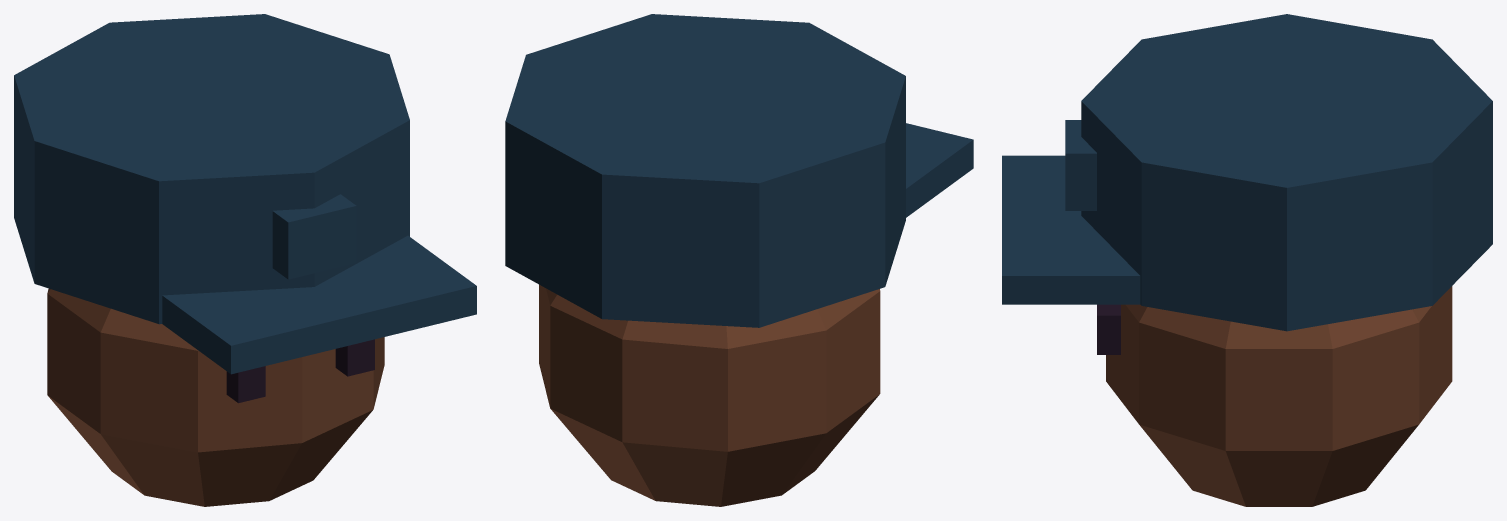
File: head_bram.gltf
3 renders of one model, left to right at view 1: azimuth 30°, elevation 25°; view 2: azimuth 150°, elevation 25°; view 3: azimuth 270°, elevation 25°, orthographic.
Parts seen in each view (by area): view 1: cap, skin, peak, badge, eyes; view 2: cap, skin, peak; view 3: cap, skin, peak, badge, eyes.
Part boxes in pixels (x1,y1,x2,y2): cap: (14, 14, 409, 324); skin: (47, 288, 384, 506); peak: (162, 235, 476, 374); badge: (272, 194, 356, 279); eyes: (226, 339, 374, 403); cap: (505, 14, 905, 327); skin: (539, 284, 880, 506); peak: (906, 123, 973, 217); cap: (1081, 14, 1492, 331); skin: (1106, 286, 1452, 506); peak: (1002, 155, 1140, 304); badge: (1065, 120, 1096, 210); eyes: (1097, 304, 1120, 354).
Size of the model in its own units: 0.52 by 0.55 by 0.62.
